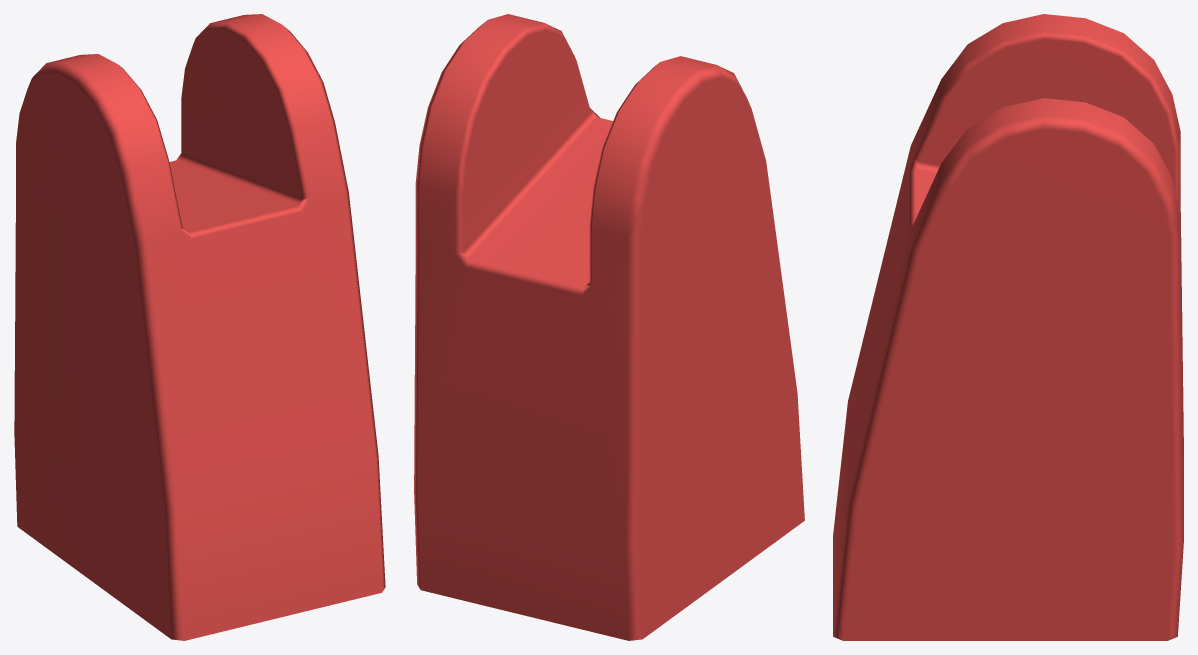
File: obstacle_8_002.fbx
3 views of the same model, side by side, from view 1: azimuth 30°, elevation 25°; view 2: azimuth 150°, elevation 25°; view 3: azimuth 270°, elevation 25° (orthographic). The views are drawn at different scales.
Visible parts, largest first — view 1: obstacle_8_002; view 2: obstacle_8_002; view 3: obstacle_8_002.
Part boxes in pixels (left/top/right/bottom): obstacle_8_002: left=14, top=14, right=385, bottom=640; obstacle_8_002: left=414, top=14, right=804, bottom=640; obstacle_8_002: left=833, top=14, right=1183, bottom=640.
Size of the model in its own units: 198 by 267 by 437.
